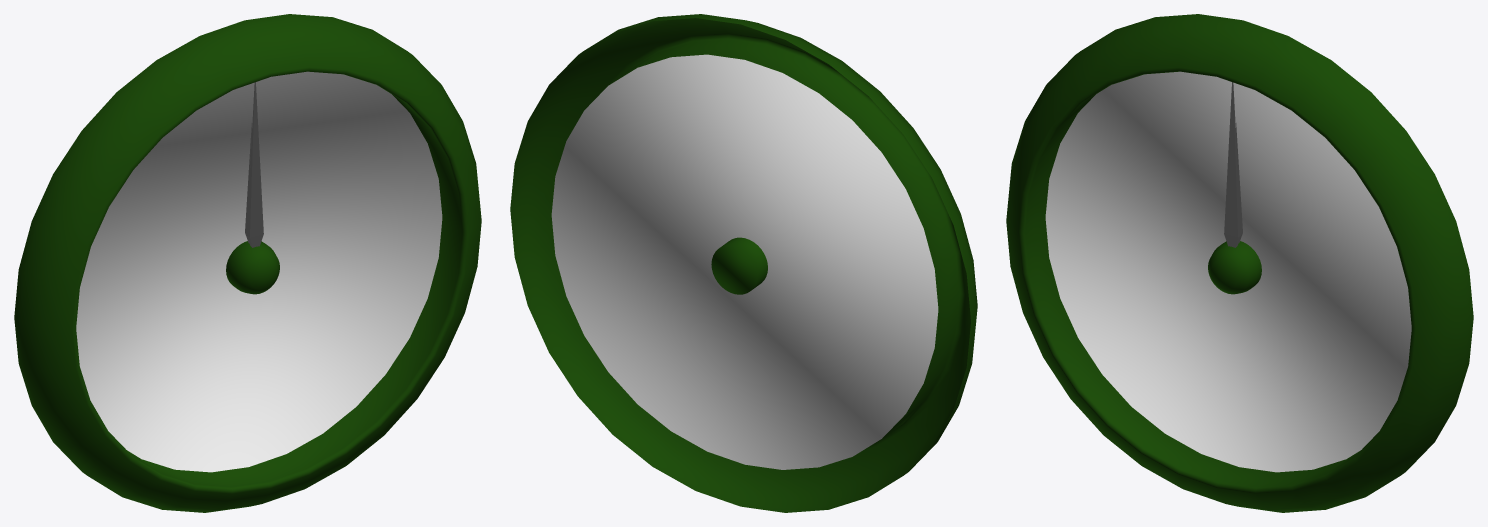
Rendered from clock.glb.
3 views of the same model, side by side, from view 1: azimuth 30°, elevation 25°; view 2: azimuth 150°, elevation 25°; view 3: azimuth 330°, elevation 25° (orthographic).
Visible parts, largest first — view 1: Sides, Centre, Minutes; view 2: Sides, Centre; view 3: Sides, Centre, Minutes.
Boxes of the visible parts, x1,y1,x2,y2 form: Sides: (14,14,481,512); Centre: (226,241,279,294); Minutes: (246,82,263,247); Sides: (510,14,977,512); Centre: (711,237,767,294); Sides: (1006,14,1473,512); Centre: (1208,241,1261,294); Minutes: (1224,82,1241,247).
Size of the model in its own units: 1 by 1 by 0.1226.
